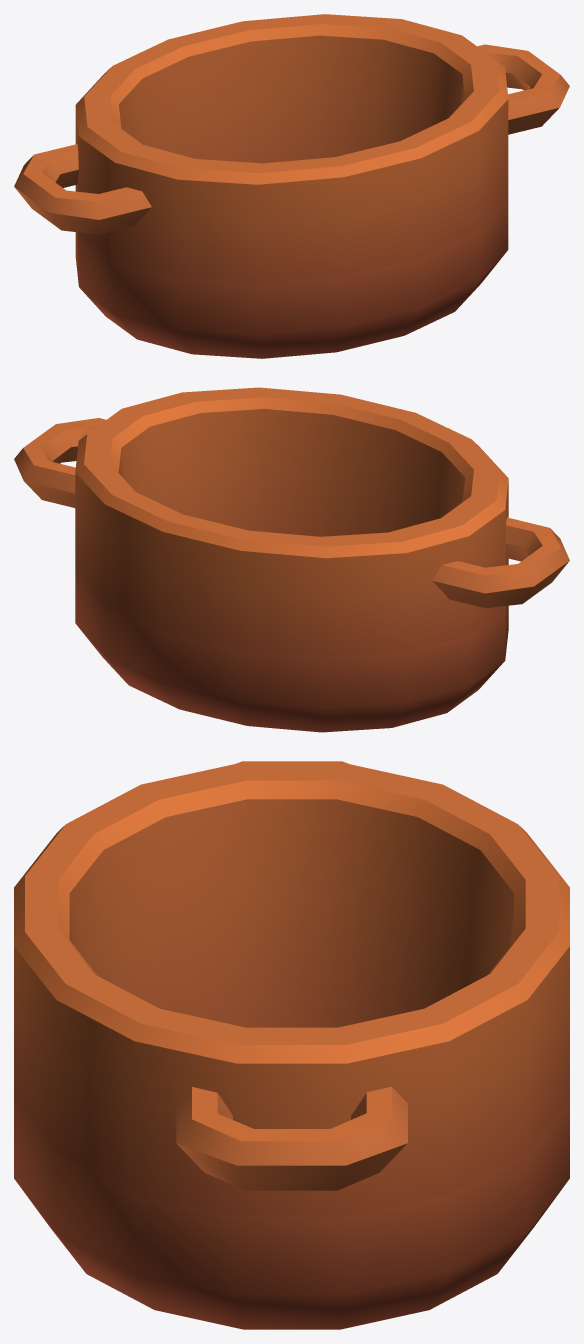
The model's file is pot_large.obj.
3 renders of one model, top to bottom at view 1: azimuth 30°, elevation 25°; view 2: azimuth 150°, elevation 25°; view 3: azimuth 270°, elevation 25°, orthographic. The views are drawn at different scales.
Parts seen in each view (by area): view 1: pot_large_Cylinder.204; view 2: pot_large_Cylinder.204; view 3: pot_large_Cylinder.204.
Boxes of the visible parts, <box> form: pot_large_Cylinder.204: <box>14,14,569,358</box>; pot_large_Cylinder.204: <box>14,387,569,732</box>; pot_large_Cylinder.204: <box>14,761,569,1329</box>.
Bounding box in the file's own units: 2 × 0.75 × 1.2.
Materials: 1 (1 with a texture image).
